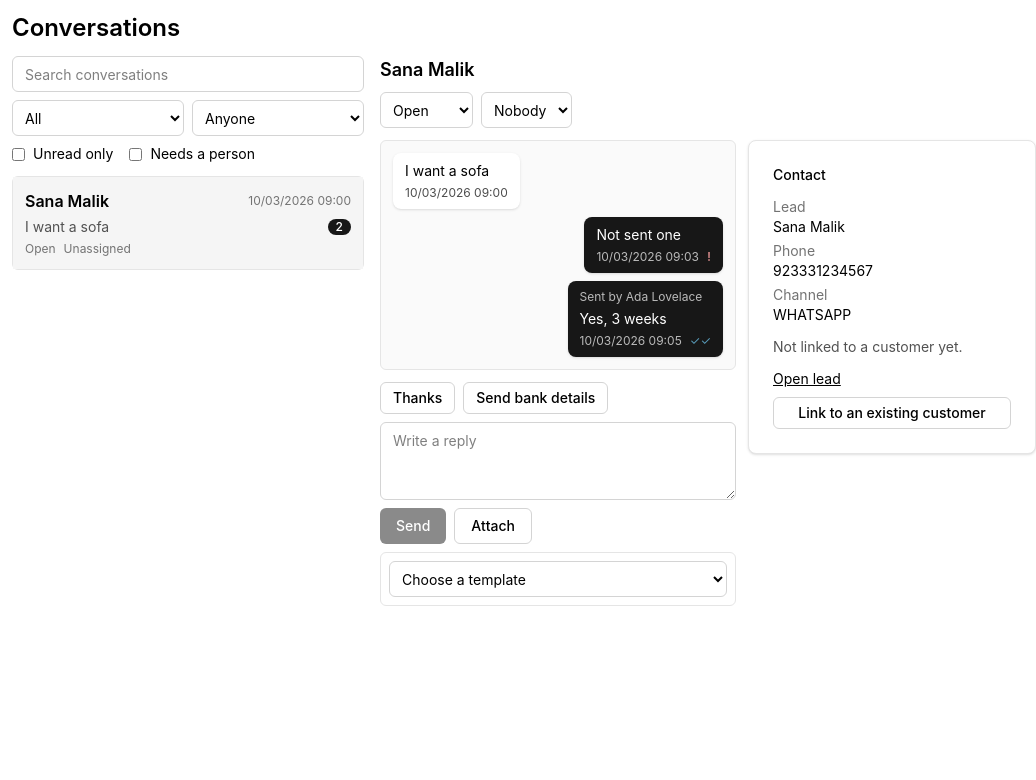
Thread › sends a reply with an idempotency key and shows server rules in words
In the text box labelled "reply": (558, 461) x1=380 y1=422 x2=736 y2=500, type "Hello there"
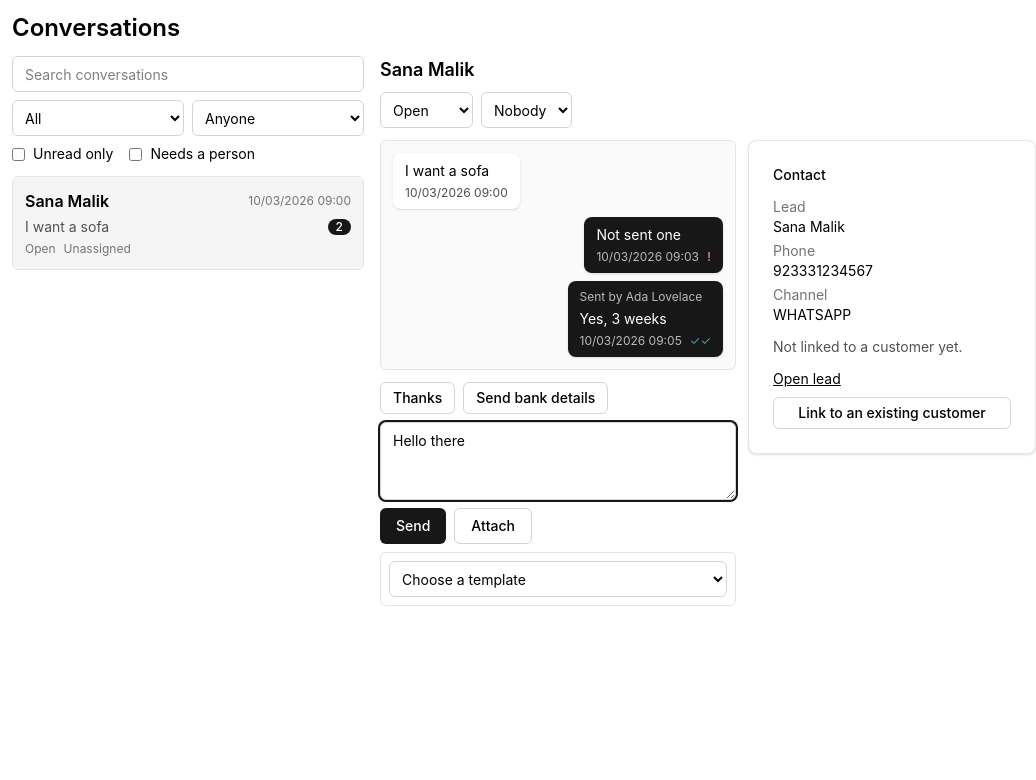
Click the button "Send": click(413, 526) x1=380 y1=508 x2=446 y2=544
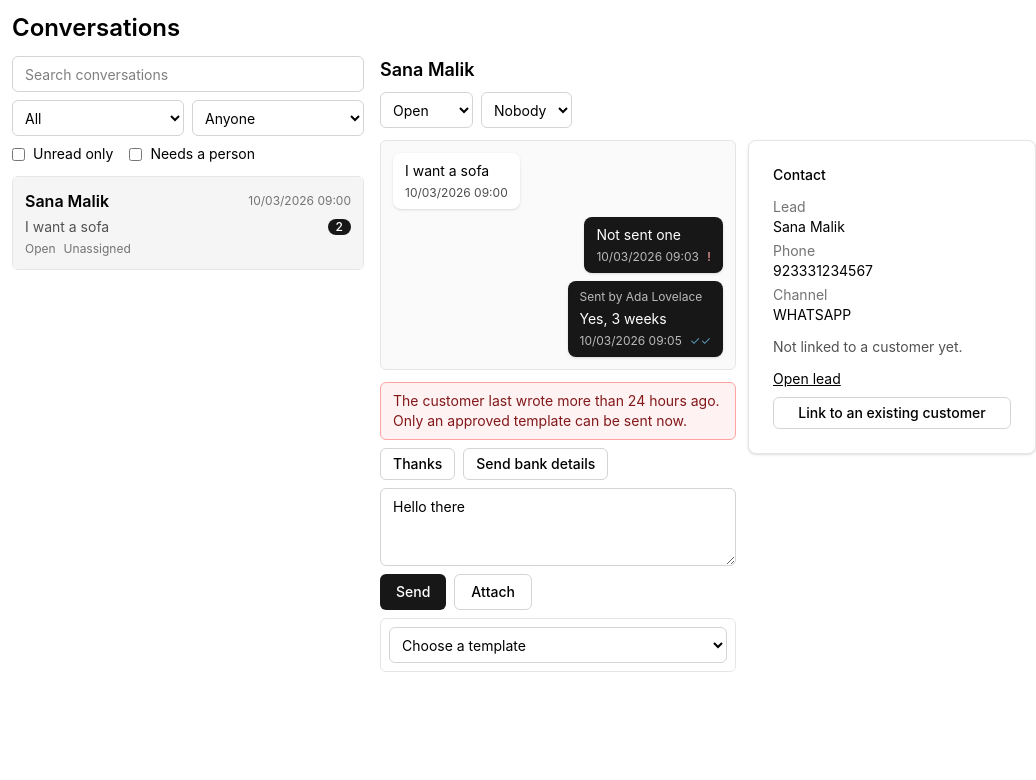
expect the message shows "Only an approved template can be sent now": met, box x1=393 y1=392 x2=720 y2=429
Click the button "Send": click(413, 592) x1=380 y1=574 x2=446 y2=610
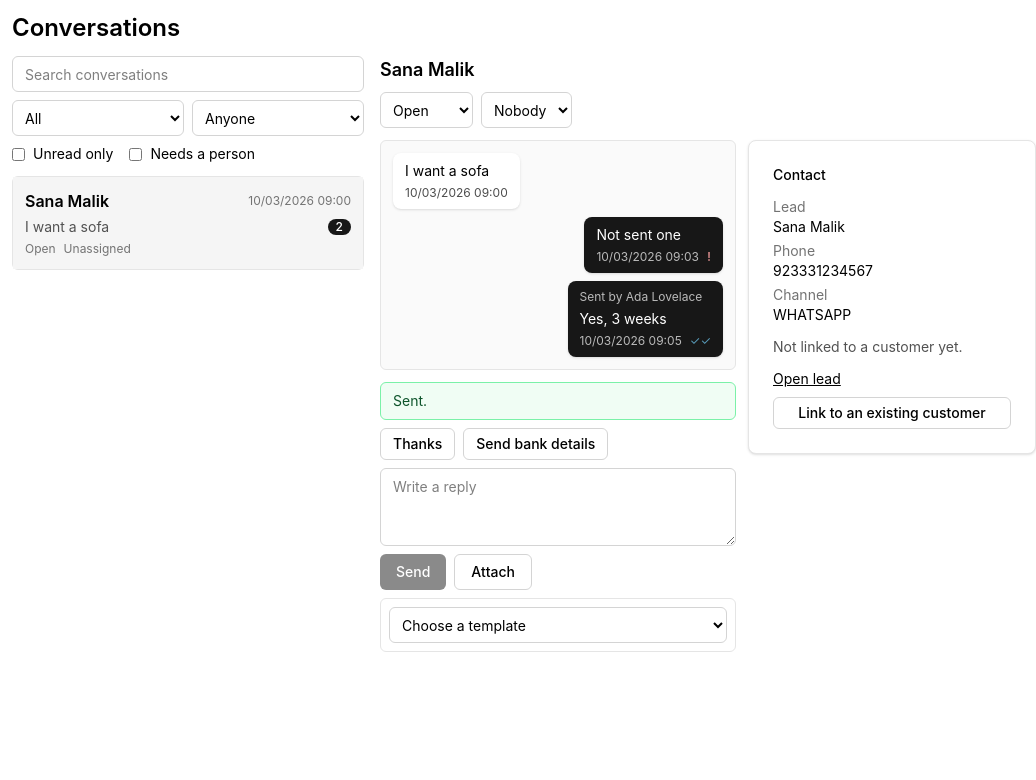
expect the text "Sent." is shown: met, box x1=380 y1=382 x2=736 y2=420
expect the text box labelled "reply" is empty: met, box x1=380 y1=468 x2=736 y2=546
